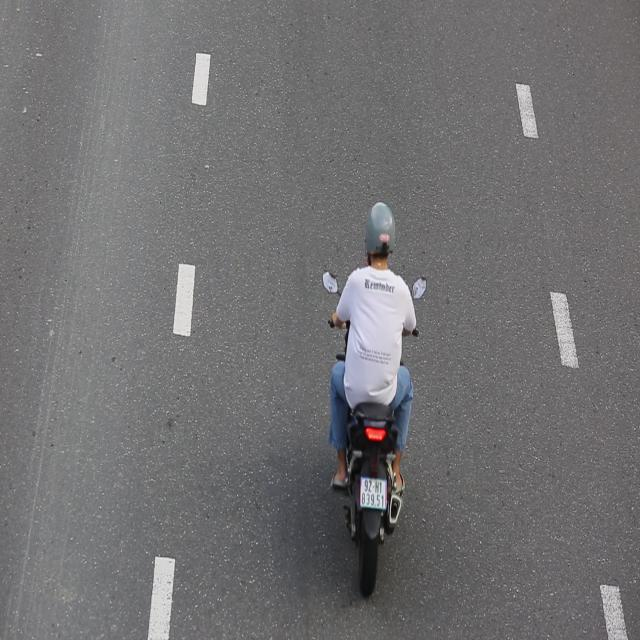motorbike: (319, 200, 428, 601)
